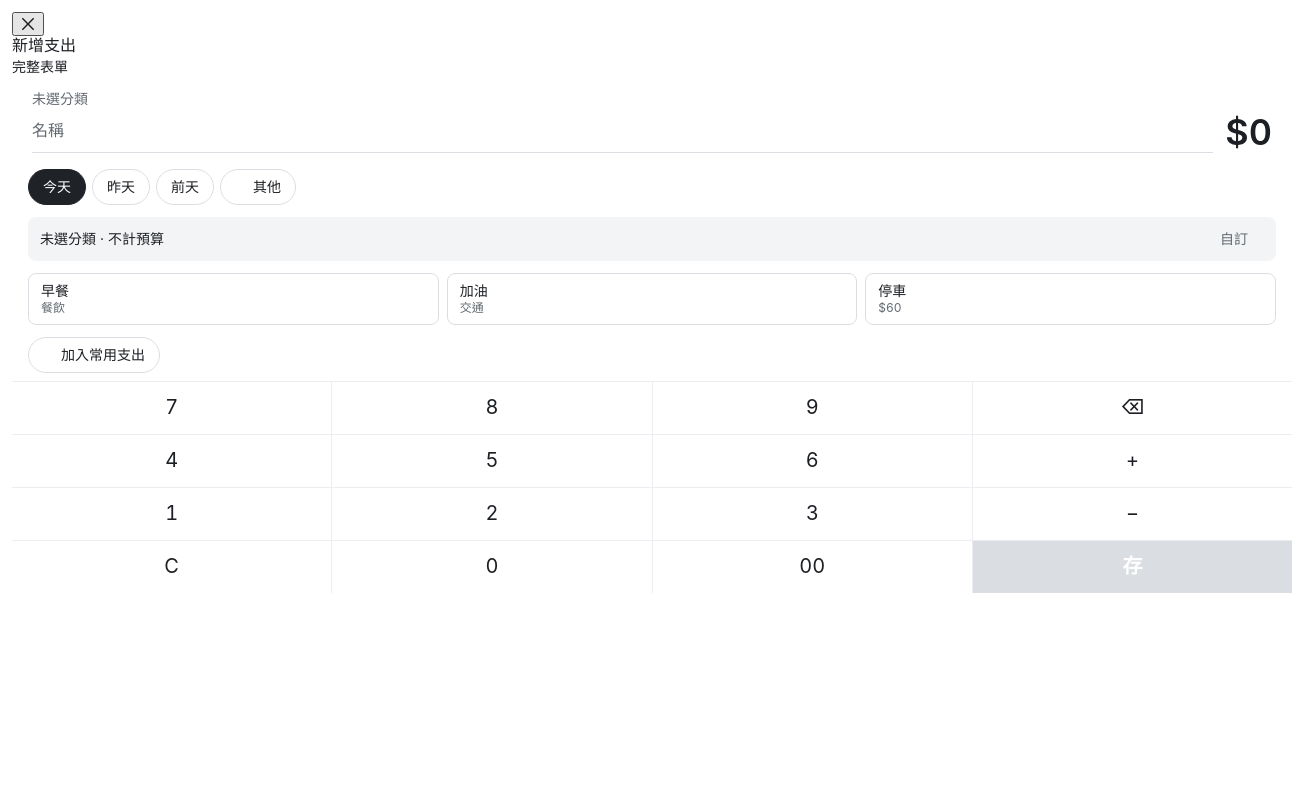
Test: <QuickExpenseSheet /> › opens on the templates alone and switches to the chips and back
expect the element named "常用" is shown: met, box 28,273 -> 1276,325
Step 1. Click the button "未選分類 · 不計預算 自訂" → (102, 238), box 28,217 -> 1276,261
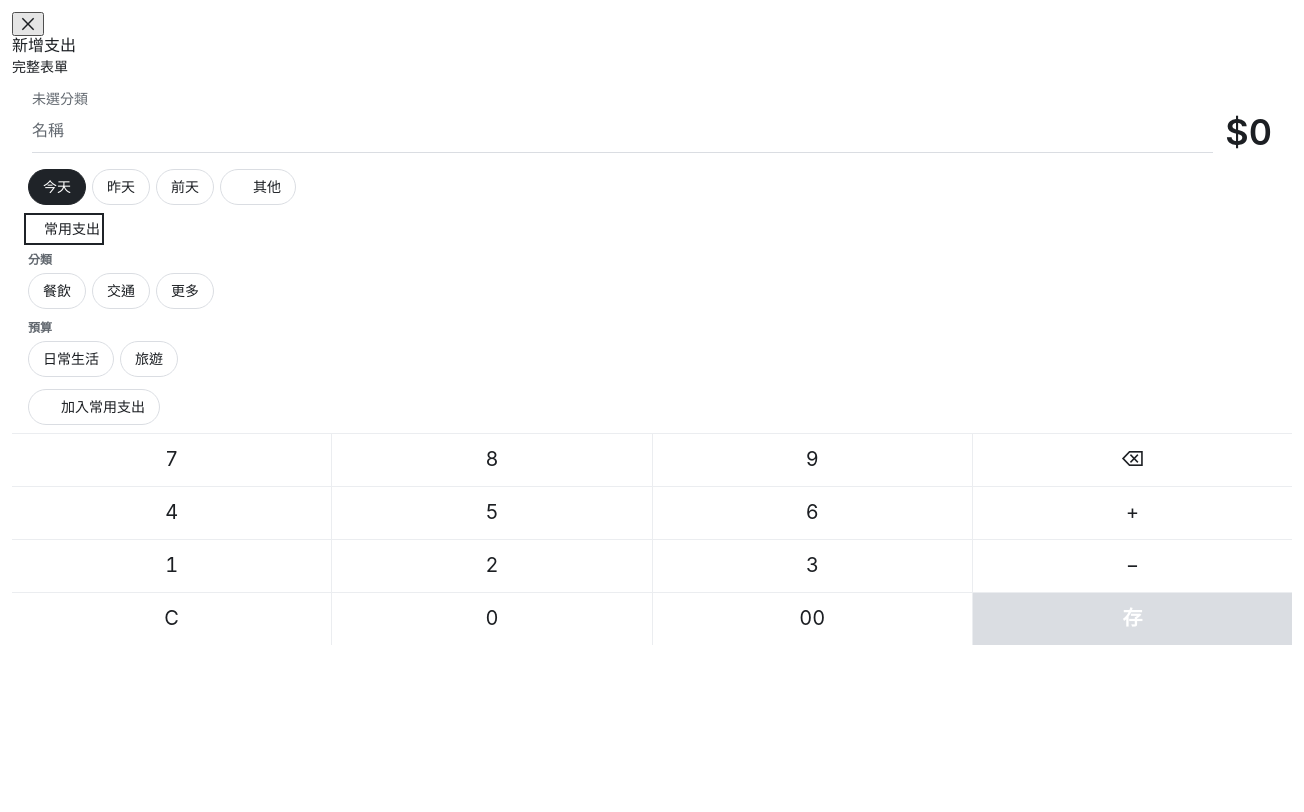
expect the element named "分類" is shown: met, box 28,273 -> 214,309
Step 2. Click the button "常用支出" → (64, 229), box 28,217 -> 100,241
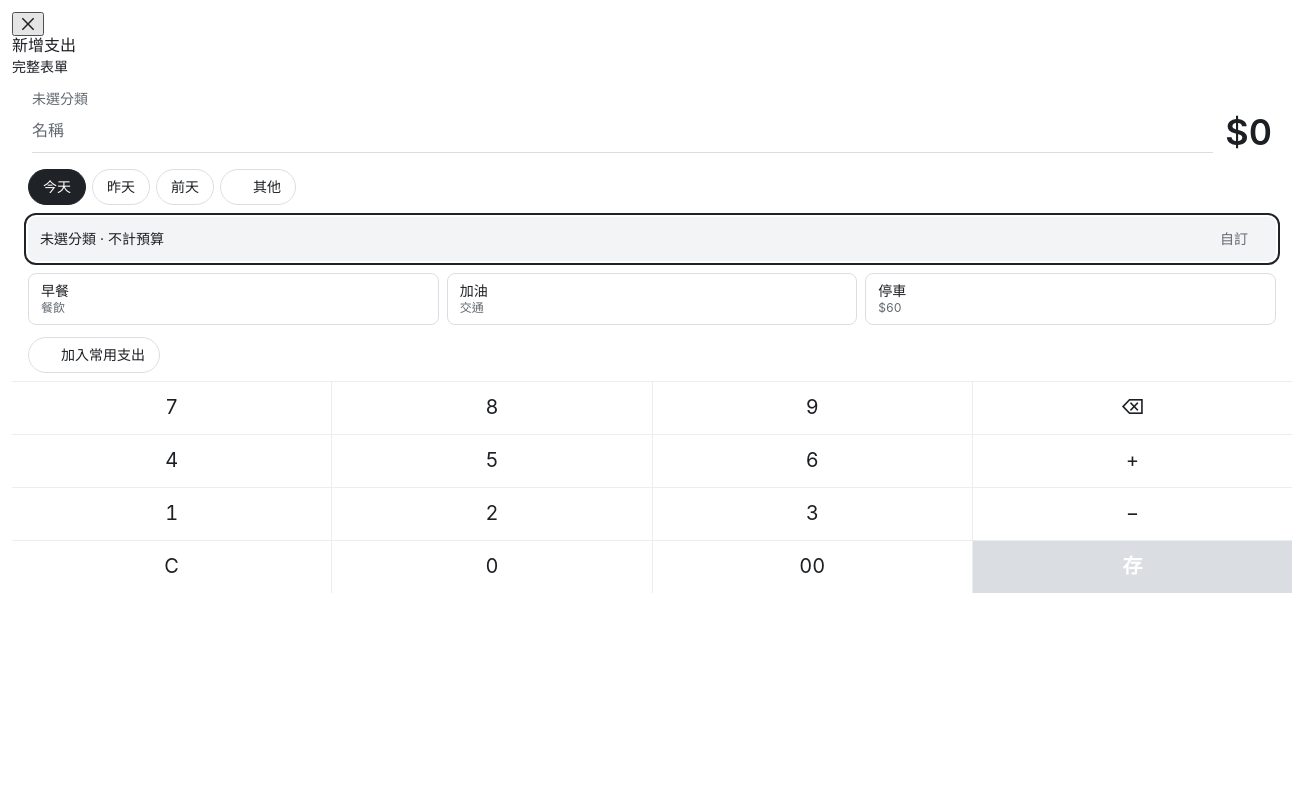
expect the element named "常用" is shown: met, box 28,273 -> 1276,325
